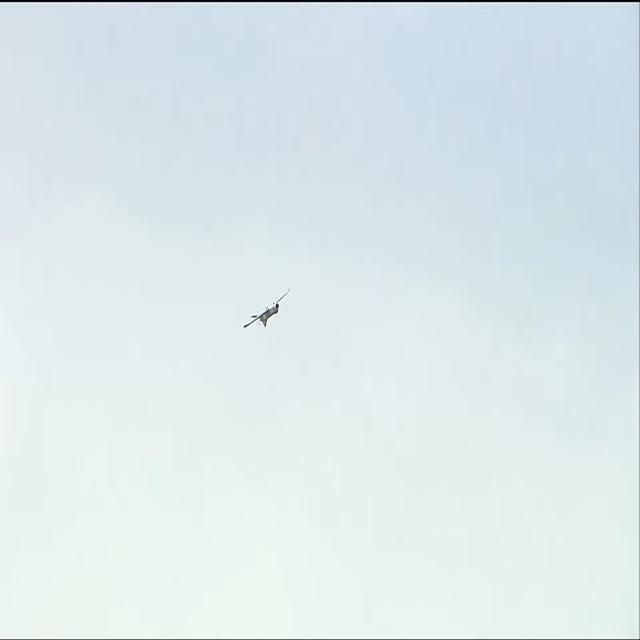iha: (236, 291, 285, 332)
